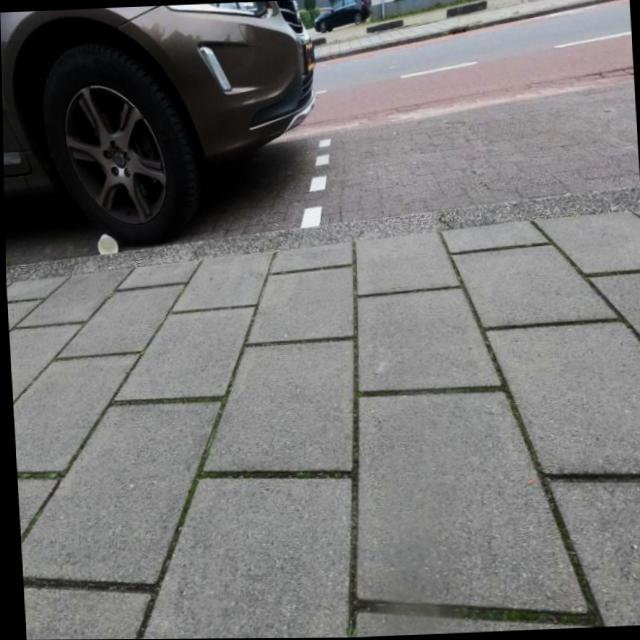Cup: (93, 231, 116, 254)
